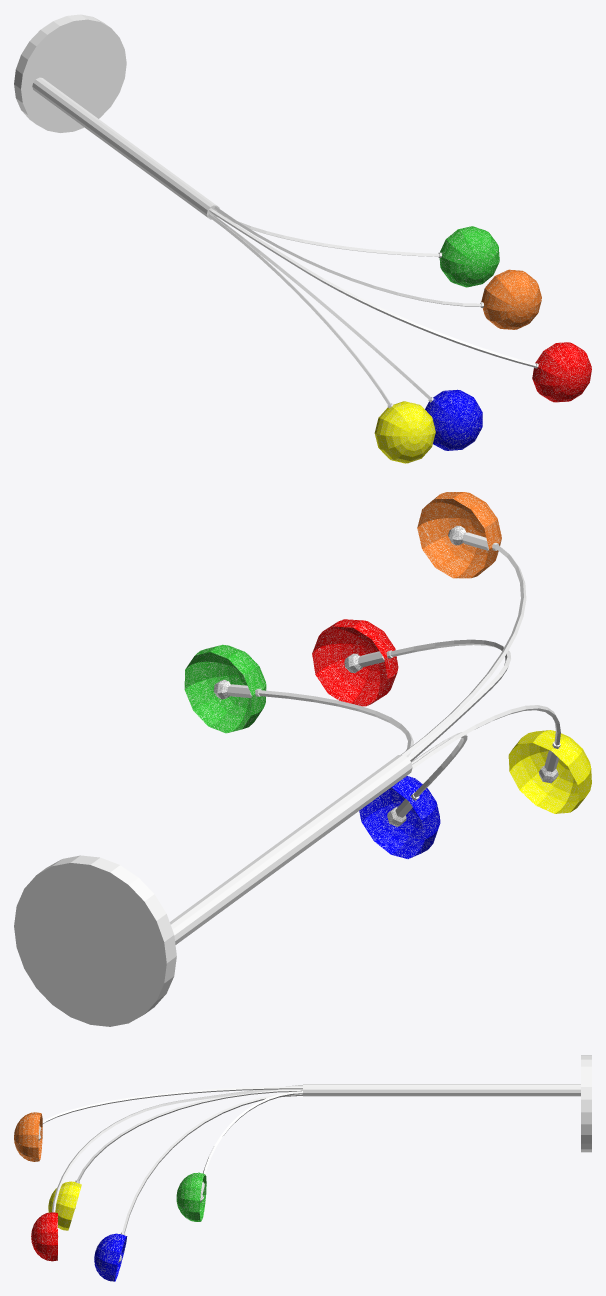
3 renders of one model, top to bottom at view 1: azimuth 30°, elevation 25°; view 2: azimuth 150°, elevation 25°; view 3: azimuth 270°, elevation 25°, orthographic. The views are drawn at different scales.
Parts seen in each view (by area): view 1: kare floor lamp five fingers colore sl five fingers colore; view 2: kare floor lamp five fingers colore sl five fingers colore; view 3: kare floor lamp five fingers colore sl five fingers colore.
Boxes of the visible parts, x1,y1,x2,y2 form: kare floor lamp five fingers colore sl five fingers colore: (14, 14, 591, 463); kare floor lamp five fingers colore sl five fingers colore: (14, 492, 591, 1026); kare floor lamp five fingers colore sl five fingers colore: (14, 1055, 591, 1281).
Size of the model in its own units: 30.74 by 29.16 by 81.93.
